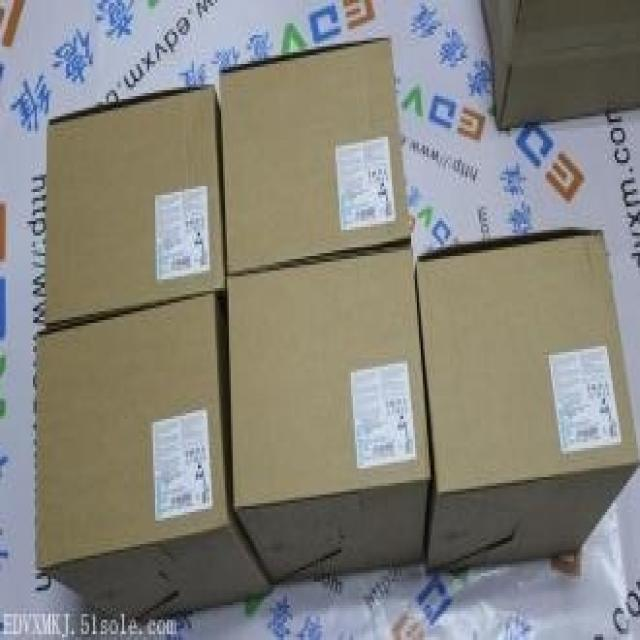box: (36, 295, 274, 628), (420, 229, 638, 569), (223, 242, 432, 585), (219, 39, 413, 276), (42, 85, 225, 326), (480, 0, 638, 128)
